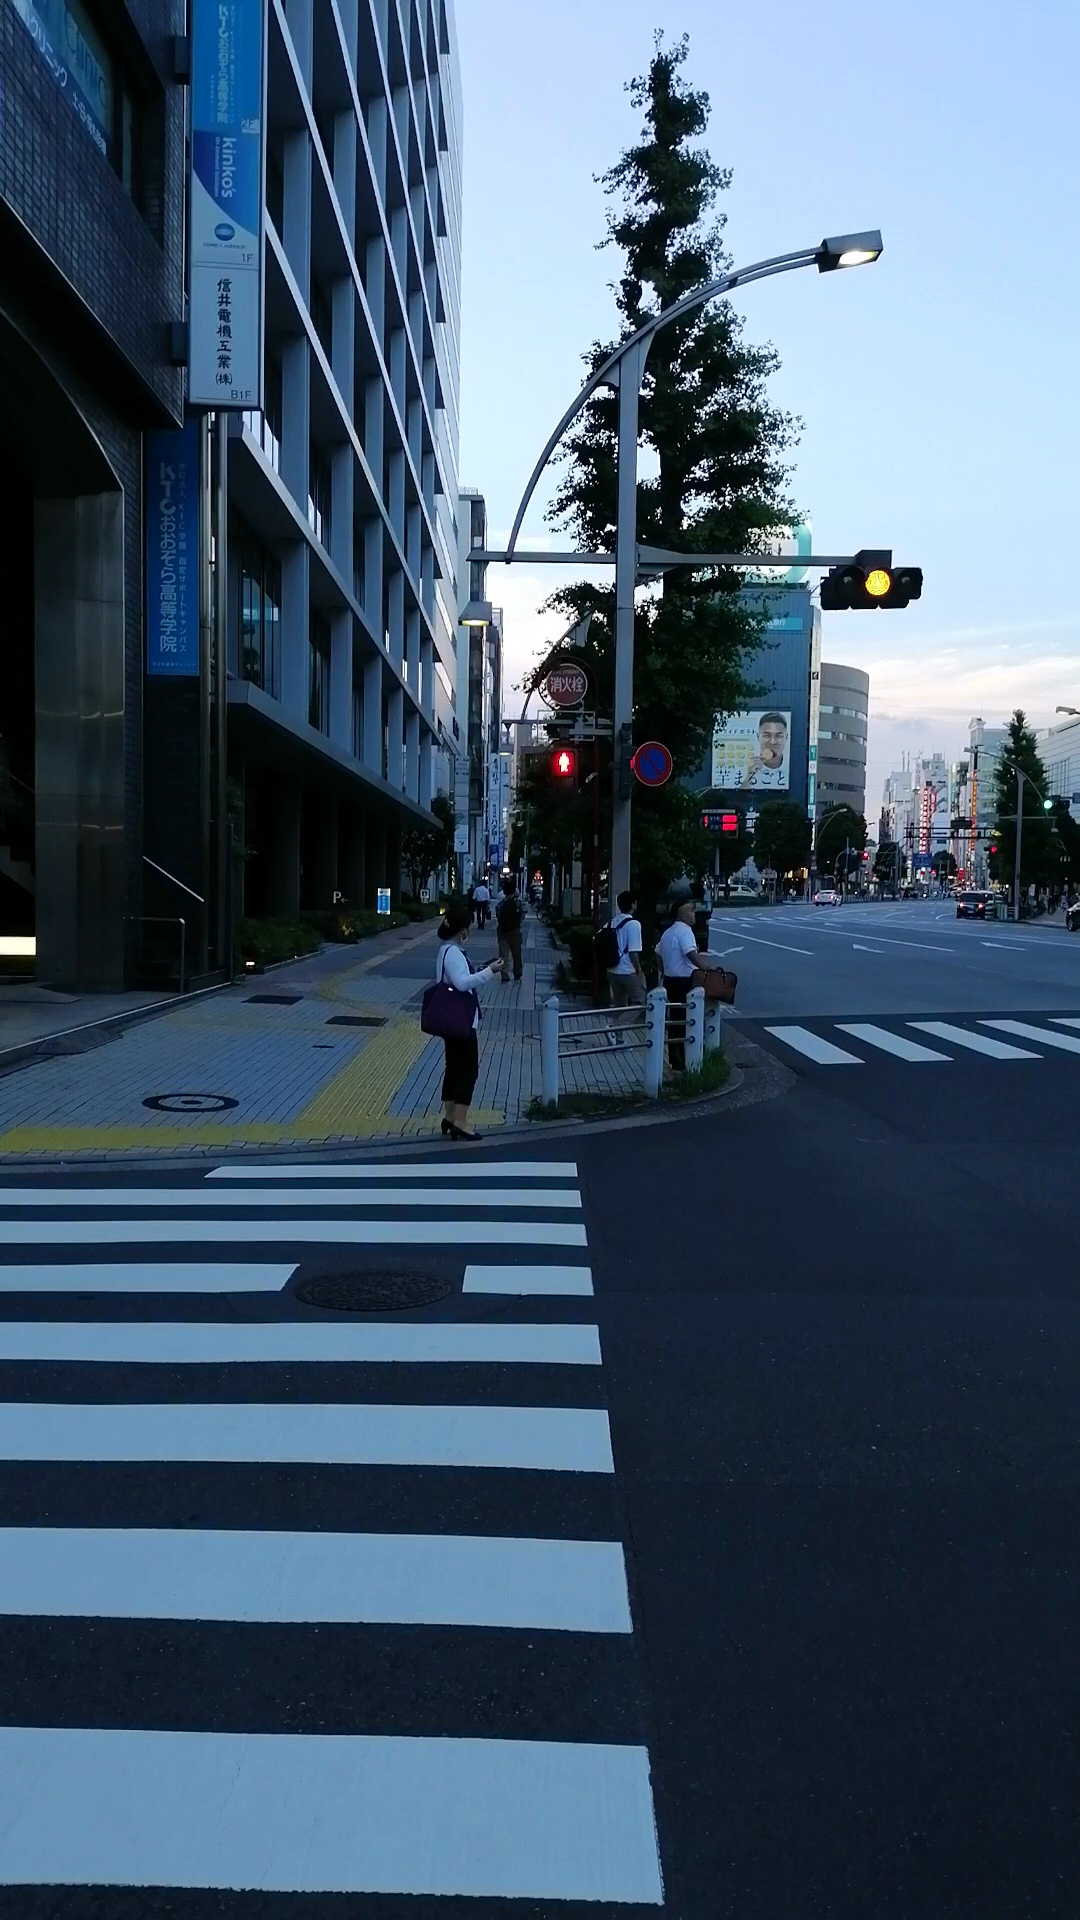red: (543, 742, 582, 811)
